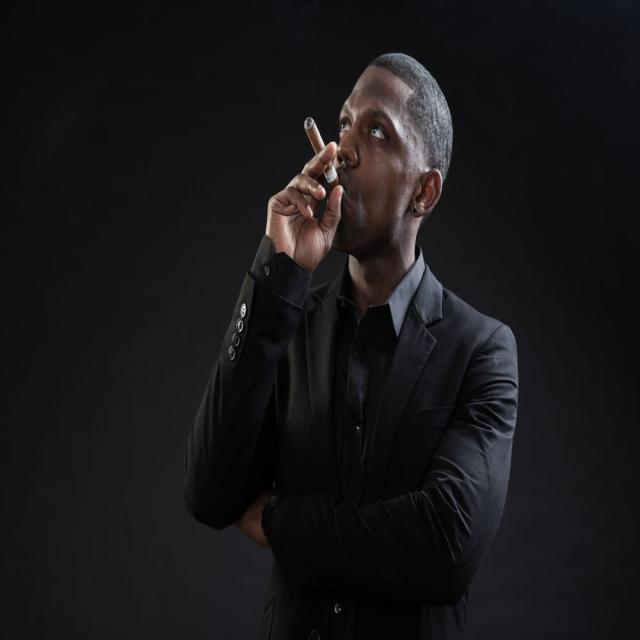Cigarette: (300, 113, 344, 187)
